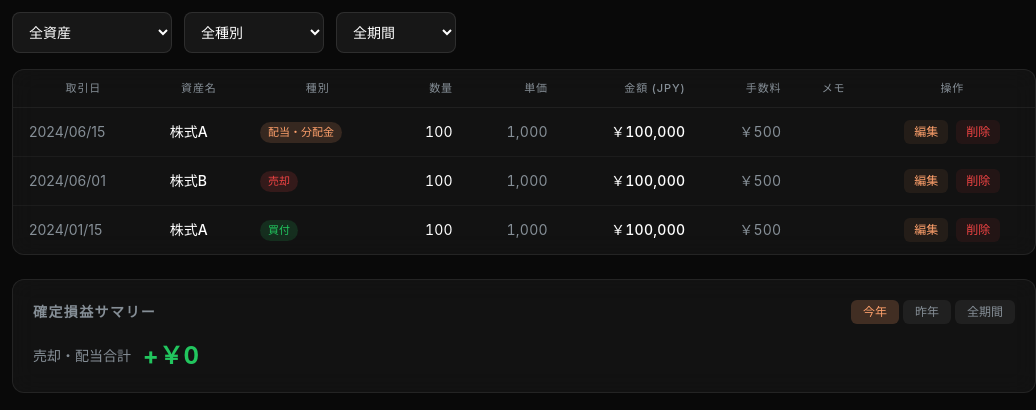
Test: TransactionList - filtering › filters by asset
The width and height of the screenshot is (1036, 410).
Select "株式B" in the dropdown named "資産フィルター" at x=92, y=32, box [12,12,172,53]
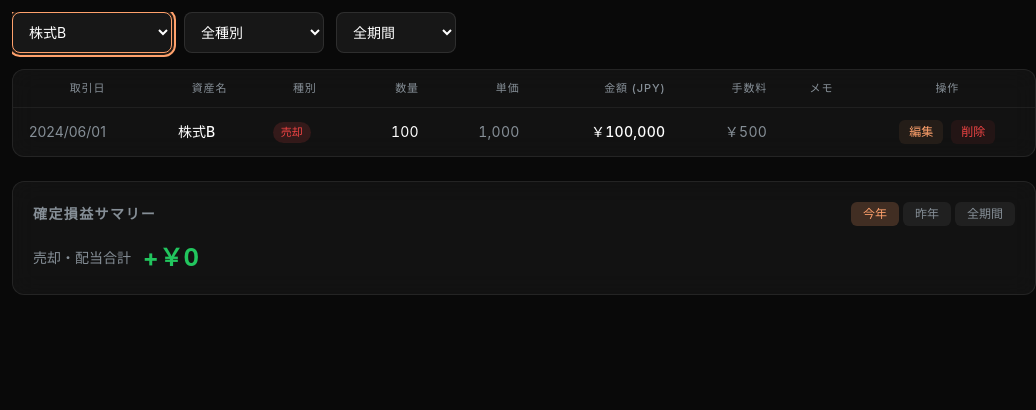
Now the number of buttons named "取引を削除" is 1, box [951,120,995,144]
